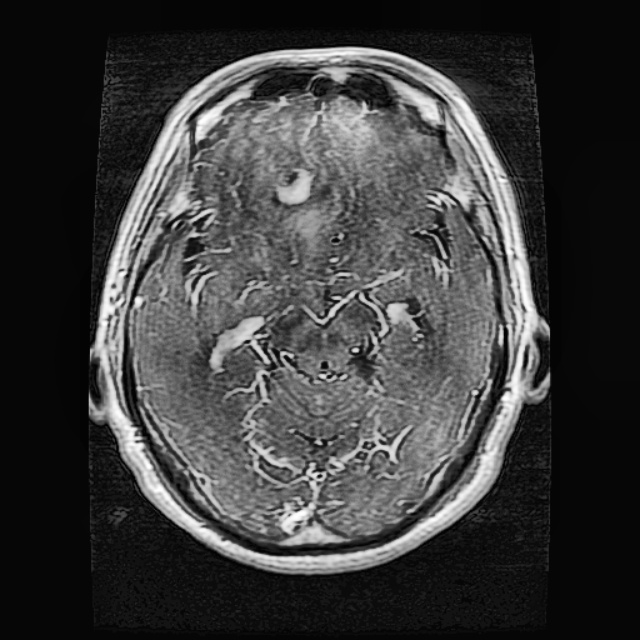Glioma: (250, 299, 382, 473)
